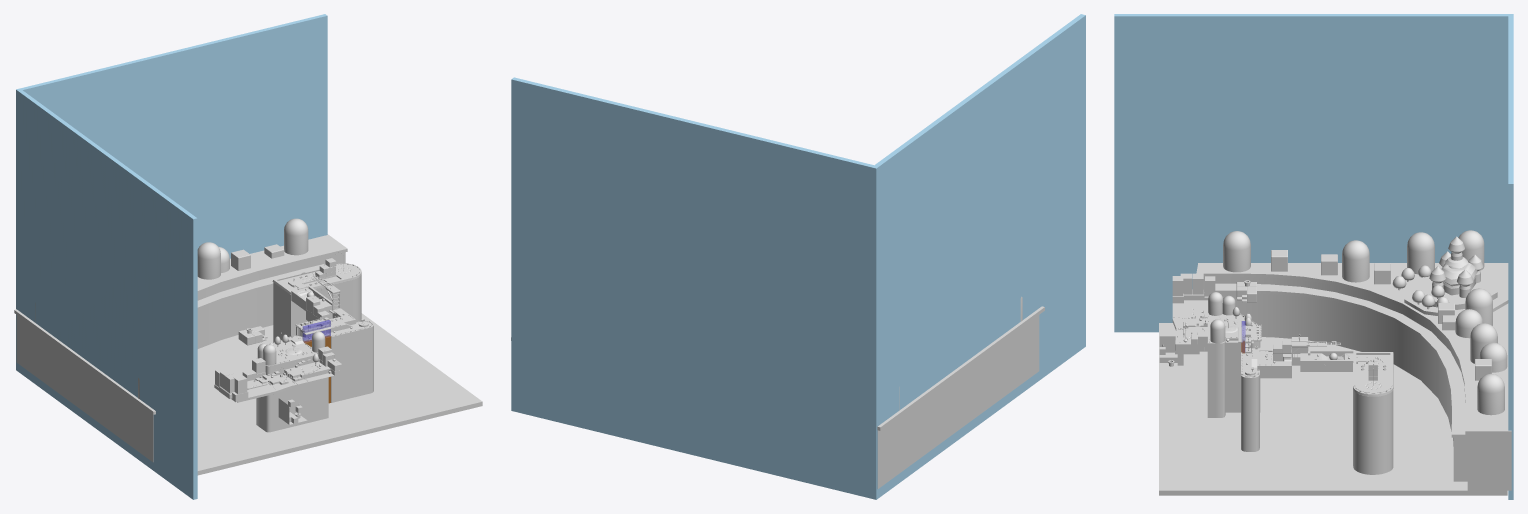
File: mario.fbx
3 renders of one model, left to right at view 1: azimuth 30°, elevation 25°; view 2: azimuth 150°, elevation 25°; view 3: azimuth 270°, elevation 25°, orthographic. The views are drawn at different scales.
Visible parts, largest first — view 1: Box291, Box290, Box282, Line086, Object002, Line087, Object004, Object008, Line066, Box003, Object003, Line063 (+3 smaller); view 2: Box290, Box291, Line086, Object002; view 3: Box291, Box282, Line087, Object002, Line086, Object003, Line066, Box290, Object008, Box003, Object004, Sphere045 (+14 smaller).
Boxes of the visible parts, x1=… form: Box291: x1=16, y1=89, x2=197, y2=499; Box290: x1=18, y1=14, x2=327, y2=258; Box282: x1=197, y1=313, x2=482, y2=475; Line086: x1=16, y1=252, x2=345, y2=462; Object002: x1=14, y1=234, x2=347, y2=414; Line087: x1=197, y1=286, x2=273, y2=348; Object004: x1=331, y1=325, x2=373, y2=402; Object008: x1=256, y1=354, x2=328, y2=432; Line066: x1=273, y1=274, x2=361, y2=342; Box003: x1=247, y1=288, x2=373, y2=397; Object003: x1=197, y1=264, x2=325, y2=309; Line063: x1=272, y1=264, x2=361, y2=294; Box290: x1=511, y1=77, x2=875, y2=498; Box291: x1=871, y1=14, x2=1085, y2=499; Line086: x1=877, y1=315, x2=1039, y2=488; Object002: x1=511, y1=306, x2=1044, y2=430; Box291: x1=1114, y1=14, x2=1513, y2=332; Box282: x1=1159, y1=323, x2=1507, y2=495; Line087: x1=1221, y1=293, x2=1467, y2=481; Object002: x1=1196, y1=263, x2=1511, y2=434; Line086: x1=1203, y1=277, x2=1511, y2=490; Object003: x1=1215, y1=283, x2=1467, y2=437; Line066: x1=1353, y1=389, x2=1393, y2=474; Box290: x1=1508, y1=15, x2=1513, y2=499; Object008: x1=1207, y1=338, x2=1260, y2=417; Box003: x1=1172, y1=300, x2=1352, y2=377; Object004: x1=1241, y1=374, x2=1259, y2=451; Sphere045: x1=1342, y1=240, x2=1369, y2=282.
Size of the model in its own units: 1348 by 1156 by 1324.
